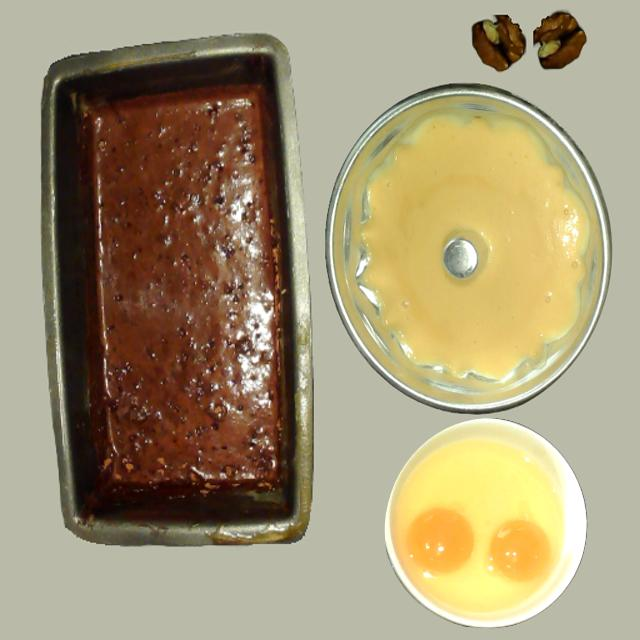Egg: (407, 508, 472, 574), (488, 520, 550, 582)
